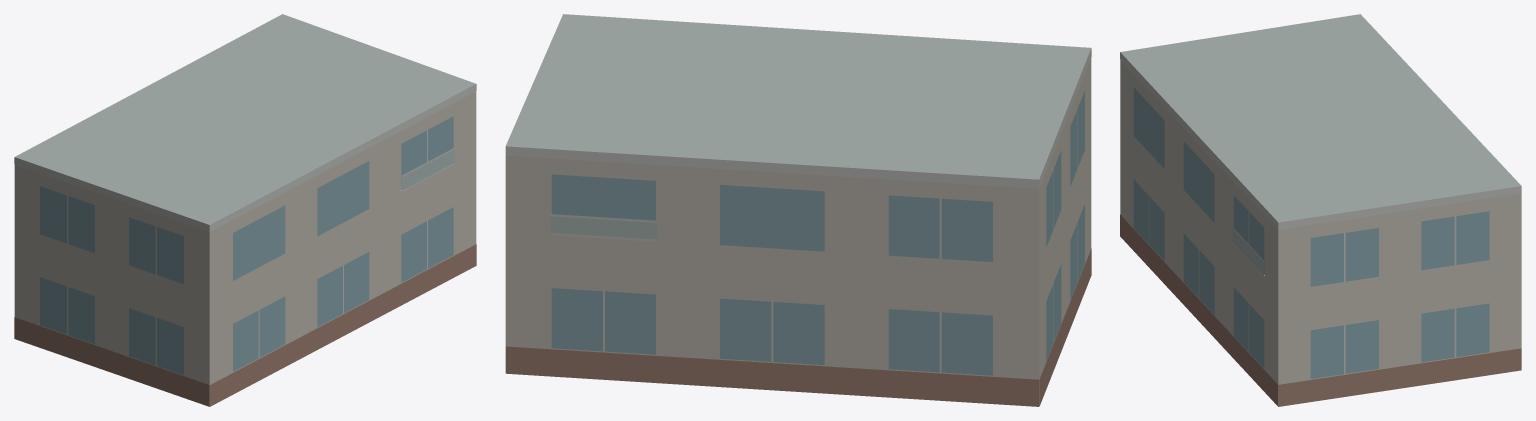
Rendered from survey-upis-32884064.glb.
3 renders of one model, left to right at view 1: azimuth 30°, elevation 25°; view 2: azimuth 150°, elevation 25°; view 3: azimuth 270°, elevation 25°, orthographic. The views are drawn at different scales.
Visible parts, largest first — view 1: survey-upis-32884064.tmp; view 2: survey-upis-32884064.tmp; view 3: survey-upis-32884064.tmp.
Boxes of the visible parts, x1,y1,x2,y2 form: survey-upis-32884064.tmp: [14, 14, 476, 406]; survey-upis-32884064.tmp: [505, 14, 1091, 406]; survey-upis-32884064.tmp: [1120, 14, 1521, 406].
Size of the model in its own units: 14.81 by 6.1 by 12.05.
